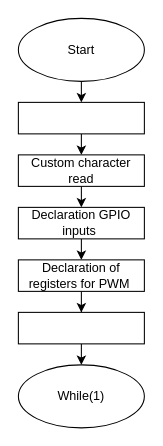
The diagram is 163 pixels wide and 446 high, and some of its shapes have lost their labels. Here are the shapes that lost their labels. From the top down, the centre of each, then its label:
(x=80, y=117): LCD ON
(x=80, y=327): Timer overflow Timer interrupt
